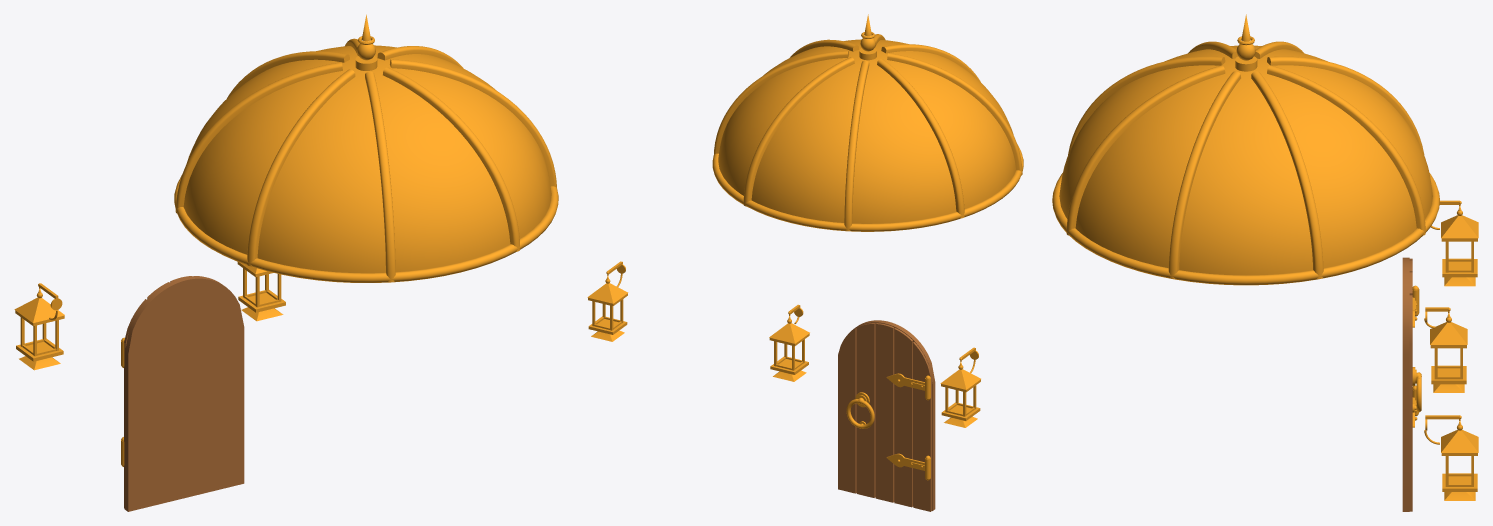
File: HaloShop_Potion_ornaments.glb
The picture shows the model from 3 angles, left to right: view 1: azimuth 30°, elevation 25°; view 2: azimuth 150°, elevation 25°; view 3: azimuth 270°, elevation 25°; orthographic projection. The views are drawn at different scales.
Visible parts, largest first — view 1: Orn_HaloShop_Potion_Dome, Orn_HaloShop_Potion_Leaf, Orn_HaloShop_Potion_Dome_Ribs, Orn_HaloShop_Potion_Lantern2, Orn_HaloShop_Potion_Lantern1; view 2: Orn_HaloShop_Potion_Dome, Orn_HaloShop_Potion_Leaf, Orn_HaloShop_Potion_Dome_Ribs, Orn_HaloShop_Potion_Lantern2, Orn_HaloShop_Potion_Lantern0, Orn_HaloShop_Potion_Lantern1, Orn_HaloShop_Potion_Knocker, Orn_HaloShop_Potion_Hinge1, Orn_HaloShop_Potion_Hinge0; view 3: Orn_HaloShop_Potion_Dome, Orn_HaloShop_Potion_Dome_Ribs, Orn_HaloShop_Potion_Leaf, Orn_HaloShop_Potion_Lantern0, Orn_HaloShop_Potion_Lantern1, Orn_HaloShop_Potion_Lantern2.
Boxes of the visible parts, bbox=[...] form: Orn_HaloShop_Potion_Dome: bbox=[174, 14, 558, 282]; Orn_HaloShop_Potion_Leaf: bbox=[124, 276, 244, 511]; Orn_HaloShop_Potion_Dome_Ribs: bbox=[175, 38, 556, 282]; Orn_HaloShop_Potion_Lantern2: bbox=[14, 283, 64, 370]; Orn_HaloShop_Potion_Lantern1: bbox=[237, 262, 285, 321]; Orn_HaloShop_Potion_Dome: bbox=[712, 14, 1023, 231]; Orn_HaloShop_Potion_Leaf: bbox=[838, 320, 935, 511]; Orn_HaloShop_Potion_Dome_Ribs: bbox=[714, 34, 1022, 230]; Orn_HaloShop_Potion_Lantern2: bbox=[940, 347, 980, 427]; Orn_HaloShop_Potion_Lantern0: bbox=[587, 261, 628, 341]; Orn_HaloShop_Potion_Lantern1: bbox=[769, 304, 809, 381]; Orn_HaloShop_Potion_Knocker: bbox=[846, 392, 874, 428]; Orn_HaloShop_Potion_Hinge1: bbox=[886, 373, 930, 400]; Orn_HaloShop_Potion_Hinge0: bbox=[886, 453, 930, 480]; Orn_HaloShop_Potion_Dome: bbox=[1052, 14, 1439, 285]; Orn_HaloShop_Potion_Dome_Ribs: bbox=[1066, 41, 1425, 278]; Orn_HaloShop_Potion_Leaf: bbox=[1402, 257, 1412, 511]; Orn_HaloShop_Potion_Lantern0: bbox=[1424, 415, 1478, 500]; Orn_HaloShop_Potion_Lantern1: bbox=[1424, 307, 1467, 392]; Orn_HaloShop_Potion_Lantern2: bbox=[1431, 200, 1478, 286].
Size of the model in its own units: 17.35 by 18.25 by 13.57.
